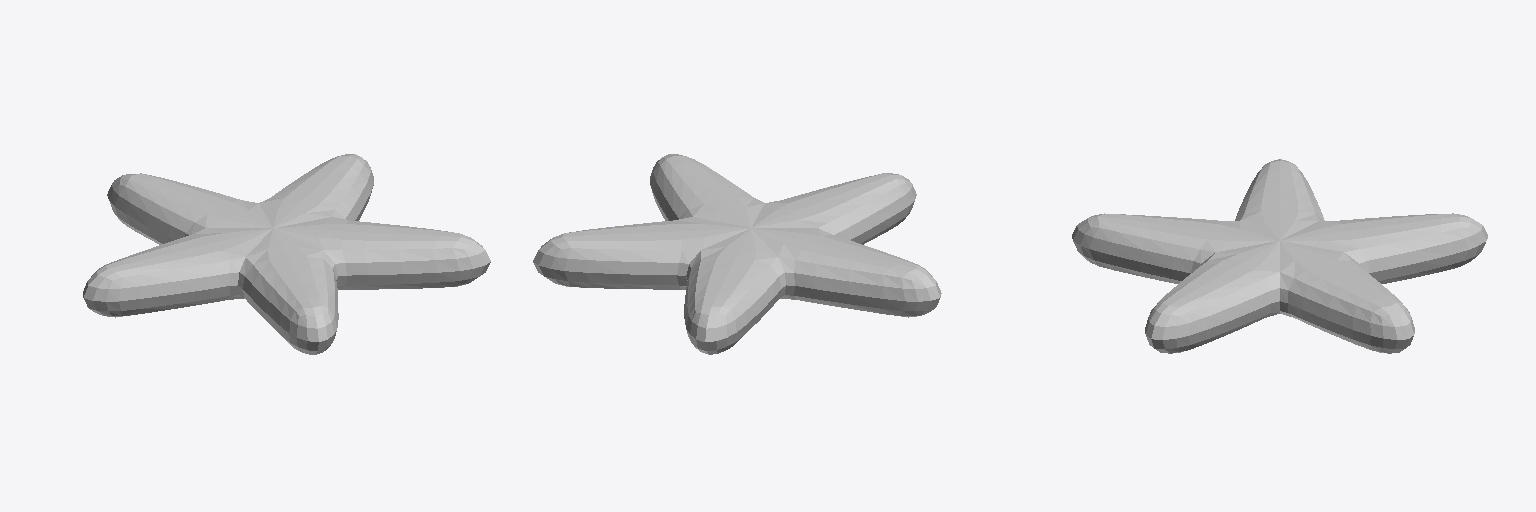
File: starfish.obj
3 views of the same model, side by side, from view 1: azimuth 30°, elevation 25°; view 2: azimuth 150°, elevation 25°; view 3: azimuth 270°, elevation 25° (orthographic).
Visible parts, largest first — view 1: coral_36; view 2: coral_36; view 3: coral_36.
Boxes of the visible parts, x1,y1,x2,y2 form: coral_36: [83, 154, 490, 354]; coral_36: [533, 154, 941, 354]; coral_36: [1072, 159, 1487, 353].
Size of the model in its own units: 0.2933 by 0.0384 by 0.3068.